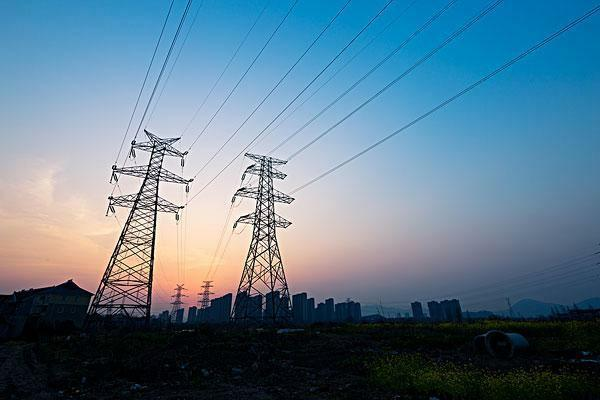power_tower: (89, 122, 196, 333), (232, 144, 312, 319), (196, 277, 219, 317), (170, 282, 189, 322)
